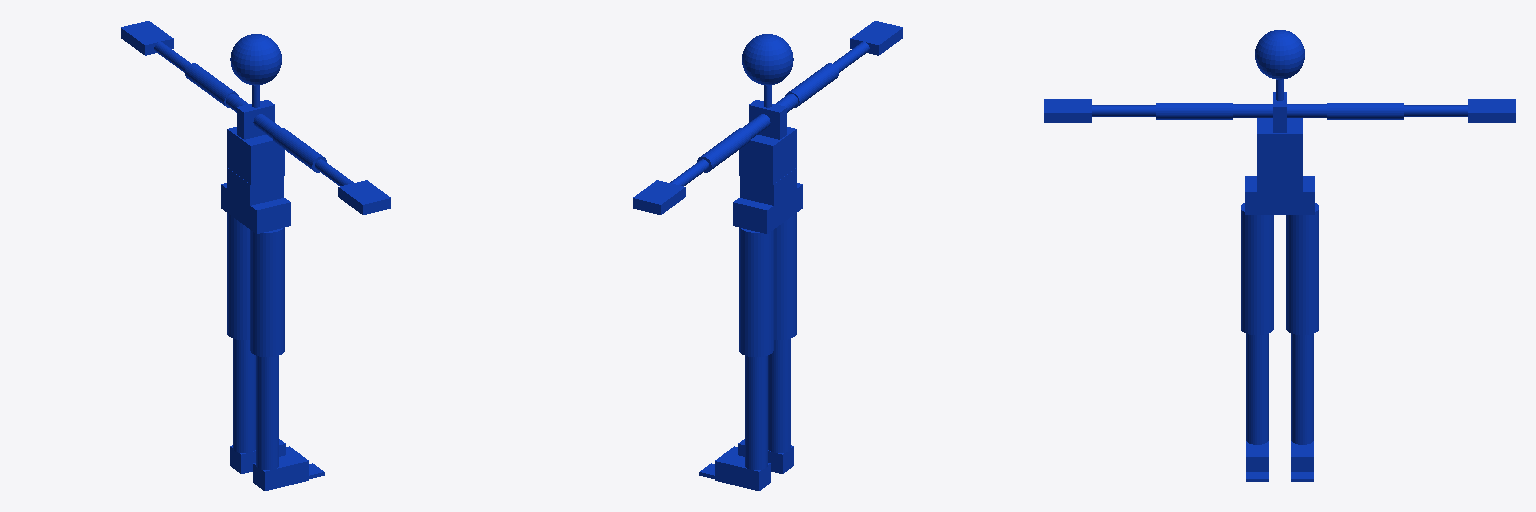
--- Facts derived from the render (not from the file) ---
The picture shows the robot from 3 angles, left to right: view 1: azimuth 30°, elevation 25°; view 2: azimuth 150°, elevation 25°; view 3: azimuth 270°, elevation 25°; orthographic projection.
Robot: XSensStyleModel_template — 67 links, 66 joints (66 revolute); root link Pelvis; default pose: every joint at zero.
Links seen in each view (by area): view 1: RightUpperLeg, LeftUpperLeg, RightLowerLeg, LeftLowerLeg, Head, Pelvis, RightFoot, T12, RightHand, L5, LeftHand, L3 (+4 smaller); view 2: LeftUpperLeg, RightUpperLeg, LeftLowerLeg, RightLowerLeg, Head, Pelvis, LeftFoot, T12, LeftHand, L5, RightHand, L3 (+4 smaller); view 3: RightUpperLeg, LeftUpperLeg, RightLowerLeg, LeftLowerLeg, Pelvis, Head, T12, RightUpperArm, LeftUpperArm, RightHand, LeftHand, L5 (+7 smaller).
Boxes of the visible links, left/top/right/bottom form: RightUpperLeg: left=250, top=228, right=284, bottom=356; LeftUpperLeg: left=227, top=213, right=249, bottom=339; RightLowerLeg: left=256, top=356, right=278, bottom=469; LeftLowerLeg: left=233, top=339, right=255, bottom=452; Head: left=230, top=34, right=281, bottom=85; Pelvis: left=221, top=183, right=290, bottom=233; RightFoot: left=253, top=452, right=308, bottom=490; T12: left=227, top=127, right=284, bottom=164; RightHand: left=338, top=180, right=390, bottom=214; L5: left=227, top=168, right=283, bottom=205; LeftHand: left=121, top=21, right=173, bottom=55; L3: left=227, top=148, right=284, bottom=184; LeftUpperLeg: left=739, top=228, right=773, bottom=356; RightUpperLeg: left=774, top=213, right=796, bottom=339; LeftLowerLeg: left=745, top=356, right=767, bottom=469; RightLowerLeg: left=768, top=339, right=790, bottom=452; Head: left=742, top=34, right=793, bottom=85; Pelvis: left=733, top=183, right=802, bottom=233; LeftFoot: left=715, top=452, right=770, bottom=490; T12: left=739, top=127, right=796, bottom=164; LeftHand: left=633, top=180, right=685, bottom=214; L5: left=740, top=168, right=796, bottom=205; RightHand: left=850, top=21, right=902, bottom=55; L3: left=739, top=148, right=796, bottom=184; RightUpperLeg: left=1241, top=203, right=1273, bottom=334; LeftUpperLeg: left=1286, top=203, right=1318, bottom=334; RightLowerLeg: left=1246, top=334, right=1268, bottom=444; LeftLowerLeg: left=1291, top=334, right=1313, bottom=444; Pelvis: left=1245, top=176, right=1314, bottom=214; Head: left=1255, top=30, right=1304, bottom=79; T12: left=1257, top=118, right=1302, bottom=152; RightUpperArm: left=1156, top=103, right=1232, bottom=119; LeftUpperArm: left=1327, top=103, right=1403, bottom=119; RightHand: left=1044, top=99, right=1091, bottom=122; LeftHand: left=1468, top=99, right=1515, bottom=122; L5: left=1257, top=172, right=1302, bottom=191.
Size in the robot's own frame: 0.294 by 1.68 by 1.69 metres.
Geometry: primitives only (box / cylinder / sphere), no mesh files.

The robot description file, URDF, robot "XSensStyleModel_template":
<!--URDF MODEL 66 DoFs-->

<robot name="XSensStyleModel_template">
	<!--To open this model with Gazebo replace the null masses, inertias and dimensions of the 'fake links f1 and f2'-->
	<!--LINKS-->
	<!--Link base (1)-->
	<link name="Pelvis">
		<inertial>
			<mass value="4.4"/>
			<!--COM origin wrt pHipOrigin-->
			<origin xyz="0           0    0.048424" rpy="0 0 0" />
			<inertia ixx="0.025751" iyy="0.0099332" izz="0.029571" ixy="0" ixz="0" iyz="0"/>
		</inertial>

		<visual>
			<!--box origin wrt pHipOrigin-->
			<origin xyz="0           0    0.048424" rpy="0 0 0" />
			<geometry>
				<box size="0.13695     0.24878    0.091304"/>
			</geometry>
			<material name="Cyan">
				<color rgba="0.1 0.3 0.8 0.4"/>
			</material>
		</visual>

		<collision>
			<!--box origin wrt pHipOrigin-->
			<origin xyz="0           0    0.048424" rpy="0 0 0" />
			<geometry>
				<box size="0.13695     0.24878    0.091304"/>
			</geometry>
			<material name="Cyan">
				<color rgba="0.1 0.3 0.8 0.4"/>
			</material>
		</collision>

	</link>
	<!--Chain from (2) to (7)-->
	<link name="L5_f1">
		<inertial>
			<mass value="0"/>
			<origin xyz="0 0 0" rpy="0 0 0" />
			<inertia ixx="0" iyy="0" izz="0" ixy="0" ixz="0" iyz="0"/>
		</inertial>
	</link>
	<link name="L5_f2">
		<inertial>
			<mass value="0"/>
			<origin xyz="0 0 0" rpy="0 0 0" />
			<inertia ixx="0" iyy="0" izz="0" ixy="0" ixz="0" iyz="0"/>
		</inertial>
	</link>
	<link name="L5">
		<inertial>
			<mass value="5.61"/>
			<!--COM origin wrt jL5S1-->
			<origin xyz="0           0    0.040831" rpy="0 0 0" />
			<inertia ixx="0.015357" iyy="0.011885" izz="0.021007" ixy="0" ixz="0" iyz="0"/>
		</inertial>

		<visual>
			<!--box origin origin wrt jL5S1-->
			<origin xyz="0           0    0.040831" rpy="0 0 0" />
			<geometry>
				<box size="0.13695      0.1618    0.081662"/>
			</geometry>
			<material name="Cyan">
				<color rgba="0.1 0.3 0.8 0.4"/>
			</material>
		</visual>

		<collision>
			<!--box origin origin wrt jL5S1-->
			<origin xyz="0           0    0.040831" rpy="0 0 0" />
			<geometry>
				<box size="0.13695      0.1618    0.081662"/>
			</geometry>
			<material name="Cyan">
				<color rgba="0.1 0.3 0.8 0.4"/>
			</material>
		</collision>
	</link>
	<link name="L3_f1">
		<inertial>
			<mass value="0"/>
			<origin xyz="0 0 0" rpy="0 0 0" />
			<inertia ixx="0" iyy="0" izz="0" ixy="0" ixz="0" iyz="0"/>
		</inertial>
	</link>
	<link name="L3_f2">
		<inertial>
			<mass value="0"/>
			<origin xyz="0 0 0" rpy="0 0 0" />
			<inertia ixx="0" iyy="0" izz="0" ixy="0" ixz="0" iyz="0"/>
		</inertial>
	</link>
	<link name="L3">
		<inertial>
			<mass value="5.61"/>
			<!--COM origin wrt jL4L3-->
			<origin xyz="0           0    0.036874" rpy="0 0 0" />
			<inertia ixx="0.014782" iyy="0.01131" izz="0.021007" ixy="0" ixz="0" iyz="0"/>
		</inertial>

		<visual>
			<!--box origin origin wrt jL4L3-->
			<origin xyz="0           0    0.036874" rpy="0 0 0" />
			<geometry>
				<box size="0.13695      0.1618    0.073749"/>
			</geometry>
			<material name="Cyan">
				<color rgba="0.1 0.3 0.8 0.4"/>
			</material>
		</visual>

		<collision>
			<!--box origin origin wrt jL4L3-->
			<origin xyz="0           0    0.036874" rpy="0 0 0" />
			<geometry>
				<box size="0.13695      0.1618    0.073749"/>
			</geometry>
			<material name="Cyan">
				<color rgba="0.1 0.3 0.8 0.4"/>
			</material>
		</collision>
	</link>
	<link name="T12_f1">
		<inertial>
			<mass value="0"/>
			<origin xyz="0 0 0" rpy="0 0 0" />
			<inertia ixx="0" iyy="0" izz="0" ixy="0" ixz="0" iyz="0"/>
		</inertial>
	</link>
	<link name="T12_f2">
		<inertial>
			<mass value="0"/>
			<origin xyz="0 0 0" rpy="0 0 0" />
			<inertia ixx="0" iyy="0" izz="0" ixy="0" ixz="0" iyz="0"/>
		</inertial>
	</link>
	<link name="T12">
		<inertial>
			<mass value="5.61"/>
			<!--COM origin wrt jL1T12-->
			<origin xyz="0           0    0.036874" rpy="0 0 0" />
			<inertia ixx="0.014782" iyy="0.01131" izz="0.021007" ixy="0" ixz="0" iyz="0"/>
		</inertial>

		<visual>
			<!--box origin origin wrt jL1T12-->
			<origin xyz="0           0    0.036874" rpy="0 0 0" />
			<geometry>
				<box size="0.13695      0.1618    0.073749"/>
			</geometry>
			<material name="Cyan">
				<color rgba="0.1 0.3 0.8 0.4"/>
			</material>
		</visual>

		<collision>
			<!--box origin origin wrt jL1T12-->
			<origin xyz="0           0    0.036874" rpy="0 0 0" />
			<geometry>
				<box size="0.13695      0.1618    0.073749"/>
			</geometry>
			<material name="Cyan">
				<color rgba="0.1 0.3 0.8 0.4"/>
			</material>
		</collision>
	</link>
	<link name="T8_f1">
		<inertial>
			<mass value="0"/>
			<origin xyz="0 0 0" rpy="0 0 0" />
			<inertia ixx="0" iyy="0" izz="0" ixy="0" ixz="0" iyz="0"/>
		</inertial>
	</link>
	<link name="T8_f2">
		<inertial>
			<mass value="0"/>
			<origin xyz="0 0 0" rpy="0 0 0" />
			<inertia ixx="0" iyy="0" izz="0" ixy="0" ixz="0" iyz="0"/>
		</inertial>
	</link>
	<link name="T8">
		<inertial>
			<mass value="2.2"/>
			<!--COM origin wrt jT9T8-->
			<origin xyz="0           0    0.052124" rpy="0 0 0" />
			<inertia ixx="0.0024867" iyy="0.0048766" izz="0.0033785" ixy="0" ixz="0" iyz="0"/>
		</inertial>

		<visual>
			<!--box origin wrt jT9T8-->
			<origin xyz="0           0    0.052124" rpy="0 0 0" />
			<geometry>
				<box size="0.12543    0.051924     0.10425"/>
			</geometry>
			<material name="Cyan">
				<color rgba="0.1 0.3 0.8 0.4"/>
			</material>
		</visual>

		<collision>
			<!--box origin wrt jT9T8-->
			<origin xyz="0           0    0.052124" rpy="0 0 0" />
			<geometry>
				<box size="0.12543    0.051924     0.10425"/>
			</geometry>
			<material name="Cyan">
				<color rgba="0.1 0.3 0.8 0.4"/>
			</material>
		</collision>

	</link>
	<link name="Neck_f1">
		<inertial>
			<mass value="0"/>
			<origin xyz="0 0 0" rpy="0 0 0" />
			<inertia ixx="0" iyy="0" izz="0" ixy="0" ixz="0" iyz="0"/>
		</inertial>
	</link>
	<link name="Neck_f2">
		<inertial>
			<mass value="0"/>
			<origin xyz="0 0 0" rpy="0 0 0" />
			<inertia ixx="0" iyy="0" izz="0" ixy="0" ixz="0" iyz="0"/>
		</inertial>
	</link>
	<link name="Neck">
		<inertial>
			<mass value="0.66"/>
			<!--COM origin wrt jT1C7-->
			<origin xyz="0           0    0.043706" rpy="0 0 0" />
			<inertia ixx="0.00055144" iyy="0.00055144" izz="0.00026239" ixy="0" ixz="0" iyz="0"/>
		</inertial>

		<visual>
			<!--box origin wrt jT1C7-->
			<origin xyz="0           0    0.043706" rpy="0 0 0" />
			<geometry>
				<cylinder length="0.087412" radius="0.014099"/>
			</geometry>
			<material name="Cyan">
				<color rgba="0.1 0.3 0.8 0.4"/>
			</material>
		</visual>

		<collision>
			<!--box origin wrt jT1C7-->
			<origin xyz="0           0    0.043706" rpy="0 0 0" />
			<geometry>
				<cylinder length="0.087412" radius="0.014099"/>
			</geometry>
			<material name="Cyan">
				<color rgba="0.1 0.3 0.8 0.4"/>
			</material>
		</collision>
	</link>
	<link name="Head_f1">
		<inertial>
			<mass value="0"/>
			<origin xyz="0 0 0" rpy="0 0 0" />
			<inertia ixx="0" iyy="0" izz="0" ixy="0" ixz="0" iyz="0"/>
		</inertial>
	</link>
	<link name="Head_f2">
		<inertial>
			<mass value="0"/>
			<origin xyz="0 0 0" rpy="0 0 0" />
			<inertia ixx="0" iyy="0" izz="0" ixy="0" ixz="0" iyz="0"/>
		</inertial>
	</link>
	<link name="Head">
		<inertial>
			<mass value="1.98"/>
			<!--COM origin wrt jC1Head-->
			<origin xyz="0           0    0.089927" rpy="0 0 0" />
			<inertia ixx="0.0064049" iyy="0.0064049" izz="0.0064049" ixy="0" ixz="0" iyz="0"/>
		</inertial>

		<visual>
			<!--boc origin wrt jC1Head-->
			<origin xyz="0           0    0.089927" rpy="0 0 0" />
			<geometry>
				<sphere radius="0.089927"/>
			</geometry>
			<material name="Cyan">
				<color rgba="0.1 0.3 0.8 0.4"/>
			</material>
		</visual>

		<collision>
			<!--box origin wrt jC1Head-->
			<origin xyz="0           0    0.089927" rpy="0 0 0" />
			<geometry>
				<sphere radius="0.089927"/>
			</geometry>
			<material name="Cyan">
				<color rgba="0.1 0.3 0.8 0.4"/>
			</material>
		</collision>

	</link>
	<!--Chain from (8) to (11)-->
	<link name="RightShoulder_f1">
		<inertial>
			<mass value="0"/>
			<origin xyz="0 0 0" rpy="0 0 0" />
			<inertia ixx="0" iyy="0" izz="0" ixy="0" ixz="0" iyz="0"/>
		</inertial>
	</link>
	<link name="RightShoulder_f2">
		<inertial>
			<mass value="0"/>
			<origin xyz="0 0 0" rpy="0 0 0" />
			<inertia ixx="0" iyy="0" izz="0" ixy="0" ixz="0" iyz="0"/>
		</inertial>
	</link>
	<link name="RightShoulder">
		<inertial>
			<mass value="1.705"/>
			<!--COM origin wrt jRightC7Shoulder-->
			<origin xyz="0   -0.070455           0" rpy="0 0 0" />
			<inertia ixx="0.0030911" iyy="0.00053983" izz="0.0030911" ixy="0" ixz="0" iyz="0"/>
		</inertial>

		<visual>
			<!--box origin wrt jRightC7Shoulder. RPY rotated of pi/2.-->
			<origin xyz="0   -0.070455           0" rpy="1.5708 0 0" />
			<geometry>
				<cylinder length="0.14091" radius="0.025164"/>
			</geometry>
			<material name="Cyan">
				<color rgba="0.1 0.3 0.8 0.4"/>
			</material>
		</visual>

		<collision>
			<!--box origin wrt jRightC7Shoulder. RPY rotated of pi/2.-->
			<origin xyz="0   -0.070455           0" rpy="1.5708 0 0" />
			<geometry>
				<cylinder length="0.14091" radius="0.025164"/>
			</geometry>
			<material name="Cyan">
				<color rgba="0.1 0.3 0.8 0.4"/>
			</material>
		</collision>

	</link>
	<link name="RightUpperArm_f1">
		<inertial>
			<mass value="0"/>
			<origin xyz="0 0 0" rpy="0 0 0" />
			<inertia ixx="0" iyy="0" izz="0" ixy="0" ixz="0" iyz="0"/>
		</inertial>
	</link>
	<link name="RightUpperArm_f2">
		<inertial>
			<mass value="0"/>
			<origin xyz="0 0 0" rpy="0 0 0" />
			<inertia ixx="0" iyy="0" izz="0" ixy="0" ixz="0" iyz="0"/>
		</inertial>
	</link>
	<link name="RightUpperArm">
		<inertial>
			<mass value="1.65"/>
			<!--COM origin wrt jRightShoulder-->
			<origin xyz="0    -0.13806           0" rpy="0 0 0" />
			<inertia ixx="0.010857" iyy="0.00074763" izz="0.010857" ixy="0" ixz="0" iyz="0"/>
		</inertial>

		<visual>
			<!--box origin wrt jRightShoulder. RPY rotated of pi/2.-->
			<origin xyz="0    -0.13806           0" rpy="1.5708 0 0" />
			<geometry>
				<cylinder length="0.27611" radius="0.030104"/>
			</geometry>
			<material name="Cyan">
				<color rgba="0.1 0.3 0.8 0.4"/>
			</material>
		</visual>

		<collision>
			<!--box origin wrt jRightShoulder. RPY rotated of pi/2.-->
			<origin xyz="0    -0.13806           0" rpy="1.5708 0 0" />
			<geometry>
				<cylinder length="0.27611" radius="0.030104"/>
			</geometry>
			<material name="Cyan">
				<color rgba="0.1 0.3 0.8 0.4"/>
			</material>
		</collision>

	</link>
	<link name="RightForeArm_f1">
		<inertial>
			<mass value="0"/>
			<origin xyz="0 0 0" rpy="0 0 0" />
			<inertia ixx="0" iyy="0" izz="0" ixy="0" ixz="0" iyz="0"/>
		</inertial>
	</link>
	<link name="RightForeArm_f2">
		<inertial>
			<mass value="0"/>
			<origin xyz="0 0 0" rpy="0 0 0" />
			<inertia ixx="0" iyy="0" izz="0" ixy="0" ixz="0" iyz="0"/>
		</inertial>
	</link>
	<link name="RightForeArm">
		<inertial>
			<mass value="1.1"/>
			<!--COM origin wrt jRightElbow-->
			<origin xyz="0    -0.11372           0" rpy="0 0 0" />
			<inertia ixx="0.0048522" iyy="0.00022152" izz="0.0048522" ixy="0" ixz="0" iyz="0"/>
		</inertial>

		<visual>
			<!--box origin wrt jRightElbow. RPY rotated of pi/2.-->
			<origin xyz="0    -0.11372           0" rpy="1.5708 0 0" />
			<geometry>
				<cylinder length="0.22743" radius="0.020069"/>
			</geometry>
			<material name="Cyan">
				<color rgba="0.1 0.3 0.8 0.4"/>
			</material>
		</visual>

		<collision>
			<!--box origin wrt jRightElbow. RPY rotated of pi/2.-->
			<origin xyz="0    -0.11372           0" rpy="1.5708 0 0" />
			<geometry>
				<cylinder length="0.22743" radius="0.020069"/>
			</geometry>
			<material name="Cyan">
				<color rgba="0.1 0.3 0.8 0.4"/>
			</material>
		</collision>

	</link>
	<link name="RightHand_f1">
		<inertial>
			<mass value="0"/>
			<origin xyz="0 0 0" rpy="0 0 0" />
			<inertia ixx="0" iyy="0" izz="0" ixy="0" ixz="0" iyz="0"/>
		</inertial>
	</link>
	<link name="RightHand_f2">
		<inertial>
			<mass value="0"/>
			<origin xyz="0 0 0" rpy="0 0 0" />
			<inertia ixx="0" iyy="0" izz="0" ixy="0" ixz="0" iyz="0"/>
		</inertial>
	</link>
	<link name="RightHand">
		<inertial>
			<mass value="0.99"/>
			<!--COM origin wrt jRightWrist-->
			<origin xyz="0   -0.085441           0" rpy="0 0 0" />
			<inertia ixx="0.002542" iyy="0.0012036" izz="0.0034797" ixy="0" ixz="0" iyz="0"/>
		</inertial>

		<visual>
			<!--box origin wrt jRightWrist-->
			<origin xyz="0   -0.085441           0" rpy="0 0 0" />
			<geometry>
				<box size="0.11392     0.17088    0.040138"/>
			</geometry>
			<material name="Cyan">
				<color rgba="0.1 0.3 0.8 0.4"/>
			</material>
		</visual>

		<collision>
			<!--box origin wrt jRightWrist-->
			<origin xyz="0   -0.085441           0" rpy="0 0 0" />
			<geometry>
				<box size="0.11392     0.17088    0.040138"/>
			</geometry>
			<material name="Cyan">
				<color rgba="0.1 0.3 0.8 0.4"/>
			</material>
		</collision>

	</link>
	<!--Chain from (12) to (15)-->
	<link name="LeftShoulder_f1">
		<inertial>
			<mass value="0"/>
			<origin xyz="0 0 0" rpy="0 0 0" />
			<inertia ixx="0" iyy="0" izz="0" ixy="0" ixz="0" iyz="0"/>
		</inertial>
	</link>
	<link name="LeftShoulder_f2">
		<inertial>
			<mass value="0"/>
			<origin xyz="0 0 0" rpy="0 0 0" />
			<inertia ixx="0" iyy="0" izz="0" ixy="0" ixz="0" iyz="0"/>
		</inertial>
	</link>
	<link name="LeftShoulder">
		<inertial>
			<mass value="1.705"/>
			<!--COM origin wrt jLeftC7Shoulder-->
			<origin xyz="0    0.070455           0" rpy="0 0 0" />
			<inertia ixx="0.0030911" iyy="0.00053983" izz="0.0030911" ixy="0" ixz="0" iyz="0"/>
		</inertial>

		<visual>
			<!--box origin wrt jLeftC7Shoulder. RPY rotated of pi/2.-->
			<origin xyz="0    0.070455           0" rpy="1.5708 0 0" />
			<geometry>
				<cylinder length="0.14091" radius="0.025164"/>
			</geometry>
			<material name="Cyan">
				<color rgba="0.1 0.3 0.8 0.4"/>
			</material>
		</visual>

		<collision>
			<!--box origin wrt jLeftC7Shoulder. RPY rotated of pi/2.-->
			<origin xyz="0    0.070455           0" rpy="1.5708 0 0" />
			<geometry>
				<cylinder length="0.14091" radius="0.025164"/>
			</geometry>
			<material name="Cyan">
				<color rgba="0.1 0.3 0.8 0.4"/>
			</material>
		</collision>

	</link>
	<link name="LeftUpperArm_f1">
		<inertial>
			<mass value="0"/>
			<origin xyz="0 0 0" rpy="0 0 0" />
			<inertia ixx="0" iyy="0" izz="0" ixy="0" ixz="0" iyz="0"/>
		</inertial>
	</link>
	<link name="LeftUpperArm_f2">
		<inertial>
			<mass value="0"/>
			<origin xyz="0 0 0" rpy="0 0 0" />
			<inertia ixx="0" iyy="0" izz="0" ixy="0" ixz="0" iyz="0"/>
		</inertial>
	</link>
	<link name="LeftUpperArm">
		<inertial>
			<mass value="1.65"/>
			<!--COM origin wrt jLeftShoulder-->
			<origin xyz="0     0.13806           0" rpy="0 0 0" />
			<inertia ixx="0.010857" iyy="0.00074763" izz="0.010857" ixy="0" ixz="0" iyz="0"/>
		</inertial>

		<visual>
			<!--box origin wrt jLeftShoulder. RPY rotated of pi/2.-->
			<origin xyz="0     0.13806           0" rpy="1.5708 0 0" />
			<geometry>
				<cylinder length="0.27611" radius="0.030104"/>
			</geometry>
			<material name="Cyan">
				<color rgba="0.1 0.3 0.8 0.4"/>
			</material>
		</visual>

		<collision>
			<!--box origin wrt jLeftShoulder. RPY rotated of pi/2.-->
			<origin xyz="0     0.13806           0" rpy="1.5708 0 0" />
			<geometry>
				<cylinder length="0.27611" radius="0.030104"/>
			</geometry>
			<material name="Cyan">
				<color rgba="0.1 0.3 0.8 0.4"/>
			</material>
		</collision>

	</link>
	<link name="LeftForeArm_f1">
		<inertial>
			<mass value="0"/>
			<origin xyz="0 0 0" rpy="0 0 0" />
			<inertia ixx="0" iyy="0" izz="0" ixy="0" ixz="0" iyz="0"/>
		</inertial>
	</link>
	<link name="LeftForeArm_f2">
		<inertial>
			<mass value="0"/>
			<origin xyz="0 0 0" rpy="0 0 0" />
			<inertia ixx="0" iyy="0" izz="0" ixy="0" ixz="0" iyz="0"/>
		</inertial>
	</link>
	<link name="LeftForeArm">
		<inertial>
			<mass value="1.1"/>
			<!--COM origin wrt jLeftElbow-->
			<origin xyz="0     0.11372           0" rpy="0 0 0" />
			<inertia ixx="0.0048522" iyy="0.00022152" izz="0.0048522" ixy="0" ixz="0" iyz="0"/>
		</inertial>

		<visual>
			<!--box origin wrt jLeftElbow. RPY rotated of pi/2.-->
			<origin xyz="0     0.11372           0" rpy="1.5708 0 0" />
			<geometry>
				<cylinder length="0.22743" radius="0.020069"/>
			</geometry>
			<material name="Cyan">
				<color rgba="0.1 0.3 0.8 0.4"/>
			</material>
		</visual>

		<collision>
			<!--box origin wrt jLeftElbow. RPY rotated of pi/2.-->
			<origin xyz="0     0.11372           0" rpy="1.5708 0 0" />
			<geometry>
				<cylinder length="0.22743" radius="0.020069"/>
			</geometry>
			<material name="Cyan">
				<color rgba="0.1 0.3 0.8 0.4"/>
			</material>
		</collision>

	</link>
	<link name="LeftHand_f1">
		<inertial>
			<mass value="0"/>
			<origin xyz="0 0 0" rpy="0 0 0" />
			<inertia ixx="0" iyy="0" izz="0" ixy="0" ixz="0" iyz="0"/>
		</inertial>
	</link>
	<link name="LeftHand_f2">
		<inertial>
			<mass value="0"/>
			<origin xyz="0 0 0" rpy="0 0 0" />
			<inertia ixx="0" iyy="0" izz="0" ixy="0" ixz="0" iyz="0"/>
		</inertial>
	</link>
	<link name="LeftHand">
		<inertial>
			<mass value="0.33"/>
			<!--COM origin wrt jLeftWrist-->
			<origin xyz="0    0.085441           0" rpy="0 0 0" />
			<inertia ixx="0.00084732" iyy="0.0004012" izz="0.0011599" ixy="0" ixz="0" iyz="0"/>
		</inertial>

		<visual>
			<!--COM origin wrt jLeftWrist-->
			<origin xyz="0    0.085441           0" rpy="0 0 0" />
			<geometry>
				<box size="0.11392     0.17088    0.040138"/>
			</geometry>
			<material name="Cyan">
				<color rgba="0.1 0.3 0.8 0.4"/>
			</material>
		</visual>

		<collision>
			<!--COM origin wrt jLeftWrist-->
			<origin xyz="0    0.085441           0" rpy="0 0 0" />
			<geometry>
				<box size="0.11392     0.17088    0.040138"/>
			</geometry>
			<material name="Cyan">
				<color rgba="0.1 0.3 0.8 0.4"/>
			</material>
		</collision>

	</link>
	<!--Chain from (16) to (19)-->
	<link name="RightUpperLeg_f1">
		<inertial>
			<mass value="0"/>
			<origin xyz="0 0 0" rpy="0 0 0" />
			<inertia ixx="0" iyy="0" izz="0" ixy="0" ixz="0" iyz="0"/>
		</inertial>
	</link>
	<link name="RightUpperLeg_f2">
		<inertial>
			<mass value="0"/>
			<origin xyz="0 0 0" rpy="0 0 0" />
			<inertia ixx="0" iyy="0" izz="0" ixy="0" ixz="0" iyz="0"/>
		</inertial>
	</link>
	<link name="RightUpperLeg">
		<inertial>
			<mass value="6.875"/>
			<!--COM origin wrt jRightHip-->
			<origin xyz="0           0    -0.23835" rpy="0 0 0" />
			<inertia ixx="0.1364" iyy="0.1364" izz="0.012416" ixy="0" ixz="0" iyz="0"/>
		</inertial>

		<visual>
			<!--box origin wrt jRightHip-->
			<origin xyz="0           0    -0.23835" rpy="0 0 0" />
			<geometry>
				<cylinder length="0.4767" radius="0.060101"/>
			</geometry>
			<material name="Cyan">
				<color rgba="0.1 0.3 0.8 0.4"/>
			</material>
		</visual>

		<collision>
			<!--box origin wrt jRightHip-->
			<origin xyz="0           0    -0.23835" rpy="0 0 0" />
			<geometry>
				<cylinder length="0.4767" radius="0.060101"/>
			</geometry>
			<material name="Cyan">
				<color rgba="0.1 0.3 0.8 0.4"/>
			</material>
		</collision>

	</link>
	<link name="RightLowerLeg_f1">
		<inertial>
			<mass value="0"/>
			<origin xyz="0 0 0" rpy="0 0 0" />
			<inertia ixx="0" iyy="0" izz="0" ixy="0" ixz="0" iyz="0"/>
		</inertial>
	</link>
	<link name="RightLowerLeg_f2">
		<inertial>
			<mass value="0"/>
			<origin xyz="0 0 0" rpy="0 0 0" />
			<inertia ixx="0" iyy="0" izz="0" ixy="0" ixz="0" iyz="0"/>
		</inertial>
	</link>
	<link name="RightLowerLeg">
		<inertial>
			<mass value="2.0075"/>
			<!--COM origin wrt jRightKnee-->
			<origin xyz="0           0    -0.22044" rpy="0 0 0" />
			<inertia ixx="0.033337" iyy="0.033337" izz="0.0016411" ixy="0" ixz="0" iyz="0"/>
		</inertial>

		<visual>
			<!--box origin wrt jRightKnee-->
			<origin xyz="0           0    -0.22044" rpy="0 0 0" />
			<geometry>
				<cylinder length="0.44087" radius="0.040434"/>
			</geometry>
			<material name="Cyan">
				<color rgba="0.1 0.3 0.8 0.4"/>
			</material>
		</visual>

		<collision>
			<!--box origin wrt jRightKnee-->
			<origin xyz="0           0    -0.22044" rpy="0 0 0" />
			<geometry>
				<cylinder length="0.44087" radius="0.040434"/>
			</geometry>
			<material name="Cyan">
				<color rgba="0.1 0.3 0.8 0.4"/>
			</material>
		</collision>

	</link>
	<link name="RightFoot_f1">
		<inertial>
			<mass value="0"/>
			<origin xyz="0 0 0" rpy="0 0 0" />
			<inertia ixx="0" iyy="0" izz="0" ixy="0" ixz="0" iyz="0"/>
		</inertial>
	</link>
	<link name="RightFoot_f2">
		<inertial>
			<mass value="0"/>
			<origin xyz="0 0 0" rpy="0 0 0" />
			<inertia ixx="0" iyy="0" izz="0" ixy="0" ixz="0" iyz="0"/>
		</inertial>
	</link>
	<link name="RightFoot">
		<inertial>
			<mass value="0.715"/>
			<!--COM origin wrt jRightAnkle-->
			<origin xyz="0.054236           0   -0.037868" rpy="0 0 0" />
			<inertia ixx="0.00073144" iyy="0.0022406" izz="0.0022885" ixy="0" ixz="0" iyz="0"/>
		</inertial>

		<visual>
			<!--box origin wrt jRightAnkle-->
			<origin xyz="0.054236           0   -0.037868" rpy="0 0 0" />
			<geometry>
				<box size="0.17852    0.080869    0.075737"/>
			</geometry>
			<material name="Cyan">
				<color rgba="0.1 0.3 0.8 0.4"/>
			</material>
		</visual>

		<collision>
			<!--box origin wrt jRightAnkle-->
			<origin xyz="0.054236           0   -0.037868" rpy="0 0 0" />
			<geometry>
				<box size="0.17852    0.080869    0.075737"/>
			</geometry>
			<material name="Cyan">
				<color rgba="0.1 0.3 0.8 0.4"/>
			</material>
		</collision>

	</link>
	<link name="RightToe_f1">
		<inertial>
			<mass value="0"/>
			<origin xyz="0 0 0" rpy="0 0 0" />
			<inertia ixx="0" iyy="0" izz="0" ixy="0" ixz="0" iyz="0"/>
		</inertial>
	</link>
	<link name="RightToe_f2">
		<inertial>
			<mass value="0"/>
			<origin xyz="0 0 0" rpy="0 0 0" />
			<inertia ixx="0" iyy="0" izz="0" ixy="0" ixz="0" iyz="0"/>
		</inertial>
	</link>
	<link name="RightToe">
		<inertial>
			<mass value="0.0825"/>
			<!--COM origin wrt jRightBallFoot-->
			<origin xyz="0.030741           0           0" rpy="0 0 0" />
			<inertia ixx="4.6403e-05" iyy="2.7429e-05" izz="7.0948e-05" ixy="0" ixz="0" iyz="0"/>
		</inertial>

		<visual>
			<!--box origin wrt jRightBallFoot-->
			<origin xyz="0.030741           0           0" rpy="0 0 0" />
			<geometry>
				<box size="0.061481    0.080869    0.014482"/>
			</geometry>
			<material name="Cyan">
				<color rgba="0.1 0.3 0.8 0.4"/>
			</material>
		</visual>

		<collision>
			<!--box origin wrt jRightBallFoot-->
			<origin xyz="0.030741           0           0" rpy="0 0 0" />
			<geometry>
				<box size="0.061481    0.080869    0.014482"/>
			</geometry>
			<material name="Cyan">
				<color rgba="0.1 0.3 0.8 0.4"/>
			</material>
		</collision>
	</link>
	<!--Chain from (20) to (23)-->
	<link name="LeftUpperLeg_f1">
		<inertial>
			<mass value="0"/>
			<origin xyz="0 0 0" rpy="0 0 0" />
			<inertia ixx="0" iyy="0" izz="0" ixy="0" ixz="0" iyz="0"/>
		</inertial>
	</link>
	<link name="LeftUpperLeg_f2">
		<inertial>
			<mass value="0"/>
			<origin xyz="0 0 0" rpy="0 0 0" />
			<inertia ixx="0" iyy="0" izz="0" ixy="0" ixz="0" iyz="0"/>
		</inertial>
	</link>
	<link name="LeftUpperLeg">
		<inertial>
			<mass value="6.875"/>
			<!--COM origin wrt jLeftHip-->
			<origin xyz="0           0    -0.23835" rpy="0 0 0" />
			<inertia ixx="0.1364" iyy="0.1364" izz="0.012416" ixy="0" ixz="0" iyz="0"/>
		</inertial>

		<visual>
			<!--box origin wrt jLeftHip-->
			<origin xyz="0           0    -0.23835" rpy="0 0 0" />
			<geometry>
				<cylinder length="0.4767" radius="-0.060101"/>
			</geometry>
			<material name="Cyan">
				<color rgba="0.1 0.3 0.8 0.4"/>
			</material>
		</visual>

		<collision>
			<!--box origin wrt jLeftHip-->
			<origin xyz="0           0    -0.23835" rpy="0 0 0" />
			<geometry>
				<cylinder length="0.4767" radius="-0.060101"/>
			</geometry>
			<material name="Cyan">
				<color rgba="0.1 0.3 0.8 0.4"/>
			</material>
		</collision>

	</link>
	<link name="LeftLowerLeg_f1">
		<inertial>
			<mass value="0"/>
			<origin xyz="0 0 0" rpy="0 0 0" />
			<inertia ixx="0" iyy="0" izz="0" ixy="0" ixz="0" iyz="0"/>
		</inertial>
	</link>
	<link name="LeftLowerLeg_f2">
		<inertial>
			<mass value="0"/>
			<origin xyz="0 0 0" rpy="0 0 0" />
			<inertia ixx="0" iyy="0" izz="0" ixy="0" ixz="0" iyz="0"/>
		</inertial>
	</link>
	<link name="LeftLowerLeg">
		<inertial>
			<mass value="2.0075"/>
			<!--COM origin wrt jLeftKnee-->
			<origin xyz="0           0    -0.22044" rpy="0 0 0" />
			<inertia ixx="0.033337" iyy="0.033337" izz="0.0016411" ixy="0" ixz="0" iyz="0"/>
		</inertial>

		<visual>
			<!--box origin wrt jLeftKnee-->
			<origin xyz="0           0    -0.22044" rpy="0 0 0" />
			<geometry>
				<cylinder length="0.44087" radius="0.040434"/>
			</geometry>
			<material name="Cyan">
				<color rgba="0.1 0.3 0.8 0.4"/>
			</material>
		</visual>

		<collision>
			<!--box origin wrt jLeftKnee-->
			<origin xyz="0           0    -0.22044" rpy="0 0 0" />
			<geometry>
				<cylinder length="0.44087" radius="0.040434"/>
			</geometry>
			<material name="Cyan">
				<color rgba="0.1 0.3 0.8 0.4"/>
			</material>
		</collision>

	</link>
	<link name="LeftFoot_f1">
		<inertial>
			<mass value="0"/>
			<origin xyz="0 0 0" rpy="0 0 0" />
			<inertia ixx="0" iyy="0" izz="0" ixy="0" ixz="0" iyz="0"/>
		</inertial>
	</link>
	<link name="LeftFoot_f2">
		<inertial>
			<mass value="0"/>
			<origin xyz="0 0 0" rpy="0 0 0" />
			<inertia ixx="0" iyy="0" izz="0" ixy="0" ixz="0" iyz="0"/>
		</inertial>
	</link>
	<link name="LeftFoot">
		<inertial>
			<mass value="0.715"/>
			<!--COM origin wrt jLeftAnkle-->
			<origin xyz="0.054236           0   -0.037868" rpy="0 0 0" />
			<inertia ixx="0.00073144" iyy="0.0022406" izz="0.0022885" ixy="0" ixz="0" iyz="0"/>
		</inertial>

		<visual>
			<!--box origin wrt jLeftAnkle-->
			<origin xyz="0.054236           0   -0.037868" rpy="0 0 0" />
			<geometry>
				<box size="0.17852    0.080869    0.075737"/>
			</geometry>
			<material name="Cyan">
				<color rgba="0.1 0.3 0.8 0.4"/>
			</material>
		</visual>

		<collision>
			<!--box origin wrt jLeftAnkle-->
			<origin xyz="0.054236           0   -0.037868" rpy="0 0 0" />
			<geometry>
				<box size="0.17852    0.080869    0.075737"/>
			</geometry>
			<material name="Cyan">
				<color rgba="0.1 0.3 0.8 0.4"/>
			</material>
		</collision>

	</link>
	<link name="LeftToe_f1">
		<inertial>
			<mass value="0"/>
			<origin xyz="0 0 0" rpy="0 0 0" />
			<inertia ixx="0" iyy="0" izz="0" ixy="0" ixz="0" iyz="0"/>
		</inertial>
	</link>
	<link name="LeftToe_f2">
		<inertial>
			<mass value="0"/>
			<origin xyz="0 0 0" rpy="0 0 0" />
			<inertia ixx="0" iyy="0" izz="0" ixy="0" ixz="0" iyz="0"/>
		</inertial>
	</link>
	<link name="LeftToe">
		<inertial>
			<mass value="0.0825"/>
			<!--COM origin wrt jLeftBallFoot-->
			<origin xyz="0.030741           0           0" rpy="0 0 0" />
			<inertia ixx="4.6403e-05" iyy="2.7429e-05" izz="7.0948e-05" ixy="0" ixz="0" iyz="0"/>
		</inertial>

		<visual>
			<!--box origin wrt jLeftBallFoot-->
			<origin xyz="0.030741           0           0" rpy="0 0 0" />
			<geometry>
				<box size="0.061481    0.080869    0.014482"/>
			</geometry>
			<material name="Cyan">
				<color rgba="0.1 0.3 0.8 0.4"/>
			</material>
		</visual>

		<collision>
			<!--box origin wrt jLeftBallFoot-->
			<origin xyz="0.030741           0           0" rpy="0 0 0" />
			<geometry>
				<box size="0.061481    0.080869    0.014482"/>
			</geometry>
			<material name="Cyan">
				<color rgba="0.1 0.3 0.8 0.4"/>
			</material>
		</collision>
	</link>


	<!--JOINTS-->
	<!--Chain from (2) to (7)-->
	<joint name="jL5S1_rotx" type="revolute">
		<origin xyz="-0.000566           0    0.094076" rpy="0 0 0"/>
		<parent link="Pelvis"/>
		<child link="L5_f1"/>
		<dynamics damping="0.1" friction="0.0"/>
		<limit effort="30" velocity="1.0" lower="-10.0" upper="10.0" />
		<axis xyz="1 0 0" />
	</joint>
	<joint name="jL5S1_roty" type="revolute">
		<origin xyz="0 0 0" rpy="0 0 0"/>
		<parent link="L5_f1"/>
		<child link="L5_f2"/>
		<dynamics damping="0.1" friction="0.0"/>
		<limit effort="30" velocity="1.0" lower="-10.0" upper="10.0" />
		<axis xyz="0 1 0" />
	</joint>
	<joint name="jL5S1_rotz" type="revolute">
		<origin xyz="0 0 0" rpy="0 0 0"/>
		<parent link="L5_f2"/>
		<child link="L5"/>
		<dynamics damping="0.1" friction="0.0"/>
		<limit effort="30" velocity="1.0" lower="-10.0" upper="10.0" />
		<axis xyz="0 0 1" />
	</joint>
	<joint name="jL4L3_rotx" type="revolute">
		<origin xyz="0.001028           0    0.081662" rpy="0 0 0"/>
		<parent link="L5"/>
		<child link="L3_f1"/>
		<dynamics damping="0.1" friction="0.0"/>
		<limit effort="30" velocity="1.0" lower="-10.0" upper="10.0" />
		<axis xyz="1 0 0" />
	</joint>
	<joint name="jL4L3_roty" type="revolute">
		<origin xyz="0 0 0" rpy="0 0 0"/>
		<parent link="L3_f1"/>
		<child link="L3_f2"/>
		<dynamics damping="0.1" friction="0.0"/>
		<limit effort="30" velocity="1.0" lower="-10.0" upper="10.0" />
		<axis xyz="0 1 0" />
	</joint>
	<joint name="jL4L3_rotz" type="revolute">
		<origin xyz="0 0 0" rpy="0 0 0"/>
		<parent link="L3_f2"/>
		<child link="L3"/>
		<dynamics damping="0.1" friction="0.0"/>
		<limit effort="30" velocity="1.0" lower="-10.0" upper="10.0" />
		<axis xyz="0 0 1" />
	</joint>
	<joint name="jL1T12_rotx" type="revolute">
		<origin xyz="0           0    0.073749" rpy="0 0 0"/>
		<parent link="L3"/>
		<child link="T12_f1"/>
		<dynamics damping="0.1" friction="0.0"/>
		<limit effort="30" velocity="1.0" lower="-10.0" upper="10.0" />
		<axis xyz="1 0 0" />
	</joint>
	<joint name="jL1T12_roty" type="revolute">
		<origin xyz="0 0 0" rpy="0 0 0"/>
		<parent link="T12_f1"/>
		<child link="T12_f2"/>
		<dynamics damping="0.1" friction="0.0"/>
		<limit effort="30" velocity="1.0" lower="-10.0" upper="10.0" />
		<axis xyz="0 1 0" />
	</joint>
	<joint name="jL1T12_rotz" type="revolute">
		<origin xyz="0 0 0" rpy="0 0 0"/>
		<parent link="T12_f2"/>
		<child link="T12"/>
		<dynamics damping="0.1" friction="0.0"/>
		<limit effort="30" velocity="1.0" lower="-10.0" upper="10.0" />
		<axis xyz="0 0 1" />
	</joint>
	<joint name="jT9T8_rotx" type="revolute">
		<origin xyz="0           0    0.073749" rpy="0 0 0"/>
		<parent link="T12"/>
		<child link="T8_f1"/>
		<dynamics damping="0.1" friction="0.0"/>
		<limit effort="30" velocity="1.0" lower="-10.0" upper="10.0" />
		<axis xyz="1 0 0" />
	</joint>
	<joint name="jT9T8_roty" type="revolute">
		<origin xyz="0 0 0" rpy="0 0 0"/>
		<parent link="T8_f1"/>
		<child link="T8_f2"/>
		<dynamics damping="0.1" friction="0.0"/>
		<limit effort="30" velocity="1.0" lower="-10.0" upper="10.0" />
		<axis xyz="0 1 0" />
	</joint>
	<joint name="jT9T8_rotz" type="revolute">
		<origin xyz="0 0 0" rpy="0 0 0"/>
		<parent link="T8_f2"/>
		<child link="T8"/>
		<dynamics damping="0.1" friction="0.0"/>
		<limit effort="30" velocity="1.0" lower="-10.0" upper="10.0" />
		<axis xyz="0 0 1" />
	</joint>
	<joint name="jT1C7_rotx" type="revolute">
		<origin xyz="0           0     0.10425" rpy="0 0 0"/>
		<parent link="T8"/>
		<child link="Neck_f1"/>
		<dynamics damping="0.1" friction="0.0"/>
		<limit effort="30" velocity="1.0" lower="-10.0" upper="10.0" />
		<axis xyz="1 0 0" />
	</joint>
	<joint name="jT1C7_roty" type="revolute">
		<origin xyz="0 0 0" rpy="0 0 0"/>
		<parent link="Neck_f1"/>
		<child link="Neck_f2"/>
		<dynamics damping="0.1" friction="0.0"/>
		<limit effort="30" velocity="1.0" lower="-10.0" upper="10.0" />
		<axis xyz="0 1 0" />
	</joint>
	<joint name="jT1C7_rotz" type="revolute">
		<origin xyz="0 0 0" rpy="0 0 0"/>
		<parent link="Neck_f2"/>
		<child link="Neck"/>
		<dynamics damping="0.1" friction="0.0"/>
		<limit effort="30" velocity="1.0" lower="-10.0" upper="10.0" />
		<axis xyz="0 0 1" />
	</joint>
	<joint name="jC1Head_rotx" type="revolute">
		<origin xyz="0.000961           0    0.087412" rpy="0 0 0"/>
		<parent link="Neck"/>
		<child link="Head_f1"/>
		<dynamics damping="0.1" friction="0.0"/>
		<limit effort="30" velocity="1.0" lower="-10.0" upper="10.0" />
		<axis xyz="1 0 0" />
	</joint>
	<joint name="jC1Head_roty" type="revolute">
		<origin xyz="0 0 0" rpy="0 0 0"/>
		<parent link="Head_f1"/>
		<child link="Head_f2"/>
		<dynamics damping="0.1" friction="0.0"/>
		<limit effort="30" velocity="1.0" lower="-10.0" upper="10.0" />
		<axis xyz="0 1 0" />
	</joint>
	<joint name="jC1Head_rotz" type="revolute">
		<origin xyz="0 0 0" rpy="0 0 0"/>
		<parent link="Head_f2"/>
		<child link="Head"/>
		<dynamics damping="0.1" friction="0.0"/>
		<limit effort="30" velocity="1.0" lower="-10.0" upper="10.0" />
		<axis xyz="0 0 1" />
	</joint>
	<!--Chain from (8) to (11)-->
	<joint name="jRightC7Shoulder_rotx" type="revolute">
		<origin xyz="0   -0.025962    0.058814" rpy="0 0 0"/>
		<parent link="T8"/>
		<child link="RightShoulder_f1"/>
		<dynamics damping="0.1" friction="0.0"/>
		<limit effort="30" velocity="1.0" lower="-10.0" upper="10.0" />
		<axis xyz="1 0 0" />
	</joint>
	<joint name="jRightC7Shoulder_roty" type="revolute">
		<origin xyz="0 0 0" rpy="0 0 0"/>
		<parent link="RightShoulder_f1"/>
		<child link="RightShoulder_f2"/>
		<dynamics damping="0.1" friction="0.0"/>
		<limit effort="30" velocity="1.0" lower="-10.0" upper="10.0" />
		<axis xyz="0 1 0" />
	</joint>
	<joint name="jRightC7Shoulder_rotz" type="revolute">
		<origin xyz="0 0 0" rpy="0 0 0"/>
		<parent link="RightShoulder_f2"/>
		<child link="RightShoulder"/>
		<dynamics damping="0.1" friction="0.0"/>
		<limit effort="30" velocity="1.0" lower="-10.0" upper="10.0" />
		<axis xyz="0 0 1" />
	</joint>
	<joint name="jRightShoulder_rotx" type="revolute">
		<origin xyz="0    -0.14091           0" rpy="0 0 0"/>
		<parent link="RightShoulder"/>
		<child link="RightUpperArm_f1"/>
		<dynamics damping="0.1" friction="0.0"/>
		<limit effort="30" velocity="1.0" lower="-10.0" upper="10.0" />
		<axis xyz="1 0 0" />
	</joint>
	<joint name="jRightShoulder_roty" type="revolute">
		<origin xyz="0 0 0" rpy="0 0 0"/>
		<parent link="RightUpperArm_f1"/>
		<child link="RightUpperArm_f2"/>
		<dynamics damping="0.1" friction="0.0"/>
		<limit effort="30" velocity="1.0" lower="-10.0" upper="10.0" />
		<axis xyz="0 1 0" />
	</joint>
	<joint name="jRightShoulder_rotz" type="revolute">
		<origin xyz="0 0 0" rpy="0 0 0"/>
		<parent link="RightUpperArm_f2"/>
		<child link="RightUpperArm"/>
		<dynamics damping="0.1" friction="0.0"/>
		<limit effort="30" velocity="1.0" lower="-10.0" upper="10.0" />
		<axis xyz="0 0 1" />
	</joint>
	<joint name="jRightElbow_rotx" type="revolute">
		<origin xyz="0    -0.27611           0" rpy="0 0 0"/>
		<parent link="RightUpperArm"/>
		<child link="RightForeArm_f1"/>
		<dynamics damping="0.1" friction="0.0"/>
		<limit effort="30" velocity="1.0" lower="-10.0" upper="10.0" />
		<axis xyz="1 0 0" />
	</joint>
	<joint name="jRightElbow_roty" type="revolute">
		<origin xyz="0 0 0" rpy="0 0 0"/>
		<parent link="RightForeArm_f1"/>
		<child link="RightForeArm_f2"/>
		<dynamics damping="0.1" friction="0.0"/>
		<limit effort="30" velocity="1.0" lower="-10.0" upper="10.0" />
		<axis xyz="0 1 0" />
	</joint>
	<joint name="jRightElbow_rotz" type="revolute">
		<origin xyz="0 0 0" rpy="0 0 0"/>
		<parent link="RightForeArm_f2"/>
		<child link="RightForeArm"/>
		<dynamics damping="0.1" friction="0.0"/>
		<limit effort="30" velocity="1.0" lower="-10.0" upper="10.0" />
		<axis xyz="0 0 1" />
	</joint>
	<joint name="jRightWrist_rotx" type="revolute">
		<origin xyz="7.2e-05    -0.22743           0" rpy="0 0 0"/>
		<parent link="RightForeArm"/>
		<child link="RightHand_f1"/>
		<dynamics damping="0.1" friction="0.0"/>
		<limit effort="30" velocity="1.0" lower="-10.0" upper="10.0" />
		<axis xyz="1 0 0" />
	</joint>
	<joint name="jRightWrist_roty" type="revolute">
		<origin xyz="0 0 0" rpy="0 0 0"/>
		<parent link="RightHand_f1"/>
		<child link="RightHand_f2"/>
		<dynamics damping="0.1" friction="0.0"/>
		<limit effort="30" velocity="1.0" lower="-10.0" upper="10.0" />
		<axis xyz="0 1 0" />
	</joint>
	<joint name="jRightWrist_rotz" type="revolute">
		<origin xyz="0 0 0" rpy="0 0 0"/>
		<parent link="RightHand_f2"/>
		<child link="RightHand"/>
		<dynamics damping="0.1" friction="0.0"/>
		<limit effort="30" velocity="1.0" lower="-10.0" upper="10.0" />
		<axis xyz="0 0 1" />
	</joint>
	<!--Chain from (12) to (15)-->
	<joint name="jLeftC7Shoulder_rotx" type="revolute">
		<origin xyz="0    0.025962    0.058814" rpy="0 0 0"/>
		<parent link="T8"/>
		<child link="LeftShoulder_f1"/>
		<dynamics damping="0.1" friction="0.0"/>
		<limit effort="30" velocity="1.0" lower="-10.0" upper="10.0" />
		<axis xyz="1 0 0" />
	</joint>
	<joint name="jLeftC7Shoulder_roty" type="revolute">
		<origin xyz="0 0 0" rpy="0 0 0"/>
		<parent link="LeftShoulder_f1"/>
		<child link="LeftShoulder_f2"/>
		<dynamics damping="0.1" friction="0.0"/>
		<limit effort="30" velocity="1.0" lower="-10.0" upper="10.0" />
		<axis xyz="0 1 0" />
	</joint>
	<joint name="jLeftC7Shoulder_rotz" type="revolute">
		<origin xyz="0 0 0" rpy="0 0 0"/>
		<parent link="LeftShoulder_f2"/>
		<child link="LeftShoulder"/>
		<dynamics damping="0.1" friction="0.0"/>
		<limit effort="30" velocity="1.0" lower="-10.0" upper="10.0" />
		<axis xyz="0 0 1" />
	</joint>
	<joint name="jLeftShoulder_rotx" type="revolute">
		<origin xyz="0     0.14091           0" rpy="0 0 0"/>
		<parent link="LeftShoulder"/>
		<child link="LeftUpperArm_f1"/>
		<dynamics damping="0.1" friction="0.0"/>
		<limit effort="30" velocity="1.0" lower="-10.0" upper="10.0" />
		<axis xyz="1 0 0" />
	</joint>
	<joint name="jLeftShoulder_roty" type="revolute">
		<origin xyz="0 0 0" rpy="0 0 0"/>
		<parent link="LeftUpperArm_f1"/>
		<child link="LeftUpperArm_f2"/>
		<dynamics damping="0.1" friction="0.0"/>
		<limit effort="30" velocity="1.0" lower="-10.0" upper="10.0" />
		<axis xyz="0 1 0" />
	</joint>
	<joint name="jLeftShoulder_rotz" type="revolute">
		<origin xyz="0 0 0" rpy="0 0 0"/>
		<parent link="LeftUpperArm_f2"/>
		<child link="LeftUpperArm"/>
		<dynamics damping="0.1" friction="0.0"/>
		<limit effort="30" velocity="1.0" lower="-10.0" upper="10.0" />
		<axis xyz="0 0 1" />
	</joint>
	<joint name="jLeftElbow_rotx" type="revolute">
		<origin xyz="0     0.27611           0" rpy="0 0 0"/>
		<parent link="LeftUpperArm"/>
		<child link="LeftForeArm_f1"/>
		<dynamics damping="0.1" friction="0.0"/>
		<limit effort="30" velocity="1.0" lower="-10.0" upper="10.0" />
		<axis xyz="1 0 0" />
	</joint>
	<joint name="jLeftElbow_roty" type="revolute">
		<origin xyz="0 0 0" rpy="0 0 0"/>
		<parent link="LeftForeArm_f1"/>
		<child link="LeftForeArm_f2"/>
		<dynamics damping="0.1" friction="0.0"/>
		<limit effort="30" velocity="1.0" lower="-10.0" upper="10.0" />
		<axis xyz="0 1 0" />
	</joint>
	<joint name="jLeftElbow_rotz" type="revolute">
		<origin xyz="0 0 0" rpy="0 0 0"/>
		<parent link="LeftForeArm_f2"/>
		<child link="LeftForeArm"/>
		<dynamics damping="0.1" friction="0.0"/>
		<limit effort="30" velocity="1.0" lower="-10.0" upper="10.0" />
		<axis xyz="0 0 1" />
	</joint>
	<joint name="jLeftWrist_rotx" type="revolute">
		<origin xyz="7.2e-05     0.22743           0" rpy="0 0 0"/>
		<parent link="LeftForeArm"/>
		<child link="LeftHand_f1"/>
		<dynamics damping="0.1" friction="0.0"/>
		<limit effort="30" velocity="1.0" lower="-10.0" upper="10.0" />
		<axis xyz="1 0 0" />
	</joint>
	<joint name="jLeftWrist_roty" type="revolute">
		<origin xyz="0 0 0" rpy="0 0 0"/>
		<parent link="LeftHand_f1"/>
		<child link="LeftHand_f2"/>
		<dynamics damping="0.1" friction="0.0"/>
		<limit effort="30" velocity="1.0" lower="-10.0" upper="10.0" />
		<axis xyz="0 1 0" />
	</joint>
	<joint name="jLeftWrist_rotz" type="revolute">
		<origin xyz="0 0 0" rpy="0 0 0"/>
		<parent link="LeftHand_f2"/>
		<child link="LeftHand"/>
		<dynamics damping="0.1" friction="0.0"/>
		<limit effort="30" velocity="1.0" lower="-10.0" upper="10.0" />
		<axis xyz="0 0 1" />
	</joint>
	<!--Chain from (16) to (19)-->
	<joint name="jRightHip_rotx" type="revolute">
		<origin xyz="0.000283   -0.080902    0.002772" rpy="0 0 0"/>
		<parent link="Pelvis"/>
		<child link="RightUpperLeg_f1"/>
		<dynamics damping="0.1" friction="0.0"/>
		<limit effort="30" velocity="1.0" lower="-10.0" upper="10.0" />
		<axis xyz="1 0 0" />
	</joint>
	<joint name="jRightHip_roty" type="revolute">
		<origin xyz="0 0 0" rpy="0 0 0"/>
		<parent link="RightUpperLeg_f1"/>
		<child link="RightUpperLeg_f2"/>
		<dynamics damping="0.1" friction="0.0"/>
		<limit effort="30" velocity="1.0" lower="-10.0" upper="10.0" />
		<axis xyz="0 1 0" />
	</joint>
	<joint name="jRightHip_rotz" type="revolute">
		<origin xyz="0 0 0" rpy="0 0 0"/>
		<parent link="RightUpperLeg_f2"/>
		<child link="RightUpperLeg"/>
		<dynamics damping="0.1" friction="0.0"/>
		<limit effort="30" velocity="1.0" lower="-10.0" upper="10.0" />
		<axis xyz="0 0 1" />
	</joint>
	<joint name="jRightKnee_rotx" type="revolute">
		<origin xyz="-3e-06           0     -0.4767" rpy="0 0 0"/>
		<parent link="RightUpperLeg"/>
		<child link="RightLowerLeg_f1"/>
		<dynamics damping="0.1" friction="0.0"/>
		<limit effort="30" velocity="1.0" lower="-10.0" upper="10.0" />
		<axis xyz="1 0 0" />
	</joint>
	<joint name="jRightKnee_roty" type="revolute">
		<origin xyz="0 0 0" rpy="0 0 0"/>
		<parent link="RightLowerLeg_f1"/>
		<child link="RightLowerLeg_f2"/>
		<dynamics damping="0.1" friction="0.0"/>
		<limit effort="30" velocity="1.0" lower="-10.0" upper="10.0" />
		<axis xyz="0 1 0" />
	</joint>
	<joint name="jRightKnee_rotz" type="revolute">
		<origin xyz="0 0 0" rpy="0 0 0"/>
		<parent link="RightLowerLeg_f2"/>
		<child link="RightLowerLeg"/>
		<dynamics damping="0.1" friction="0.0"/>
		<limit effort="30" velocity="1.0" lower="-10.0" upper="10.0" />
		<axis xyz="0 0 1" />
	</joint>
	<joint name="jRightAnkle_rotx" type="revolute">
		<origin xyz="0.000249           0    -0.44087" rpy="0 0 0"/>
		<parent link="RightLowerLeg"/>
		<child link="RightFoot_f1"/>
		<dynamics damping="0.1" friction="0.0"/>
		<limit effort="30" velocity="1.0" lower="-10.0" upper="10.0" />
		<axis xyz="1 0 0" />
	</joint>
	<joint name="jRightAnkle_roty" type="revolute">
		<origin xyz="0 0 0" rpy="0 0 0"/>
		<parent link="RightFoot_f1"/>
		<child link="RightFoot_f2"/>
		<dynamics damping="0.1" friction="0.0"/>
		<limit effort="30" velocity="1.0" lower="-10.0" upper="10.0" />
		<axis xyz="0 1 0" />
	</joint>
	<joint name="jRightAnkle_rotz" type="revolute">
		<origin xyz="0 0 0" rpy="0 0 0"/>
		<parent link="RightFoot_f2"/>
		<child link="RightFoot"/>
		<dynamics damping="0.1" friction="0.0"/>
		<limit effort="30" velocity="1.0" lower="-10.0" upper="10.0" />
		<axis xyz="0 0 1" />
	</joint>
	<joint name="jRightBallFoot_rotx" type="revolute">
		<origin xyz="0.1435           0   -0.063865" rpy="0 0 0"/>
		<parent link="RightFoot"/>
		<child link="RightToe_f1"/>
		<dynamics damping="0.1" friction="0.0"/>
		<limit effort="30" velocity="1.0" lower="-10.0" upper="10.0" />
		<axis xyz="1 0 0" />
	</joint>
	<joint name="jRightBallFoot_roty" type="revolute">
		<origin xyz="0 0 0" rpy="0 0 0"/>
		<parent link="RightToe_f1"/>
		<child link="RightToe_f2"/>
		<dynamics damping="0.1" friction="0.0"/>
		<limit effort="30" velocity="1.0" lower="-10.0" upper="10.0" />
		<axis xyz="0 1 0" />
	</joint>
	<joint name="jRightBallFoot_rotz" type="revolute">
		<origin xyz="0 0 0" rpy="0 0 0"/>
		<parent link="RightToe_f2"/>
		<child link="RightToe"/>
		<dynamics damping="0.1" friction="0.0"/>
		<limit effort="30" velocity="1.0" lower="-10.0" upper="10.0" />
		<axis xyz="0 0 1" />
	</joint>
	<!--Chain from (20) to (23)-->
	<joint name="jLeftHip_rotx" type="revolute">
		<origin xyz="0.000283    0.080902    0.002772" rpy="0 0 0"/>
		<parent link="Pelvis"/>
		<child link="LeftUpperLeg_f1"/>
		<dynamics damping="0.1" friction="0.0"/>
		<limit effort="30" velocity="1.0" lower="-10.0" upper="10.0" />
		<axis xyz="1 0 0" />
	</joint>
	<joint name="jLeftHip_roty" type="revolute">
		<origin xyz="0 0 0" rpy="0 0 0"/>
		<parent link="LeftUpperLeg_f1"/>
		<child link="LeftUpperLeg_f2"/>
		<dynamics damping="0.1" friction="0.0"/>
		<limit effort="30" velocity="1.0" lower="-10.0" upper="10.0" />
		<axis xyz="0 1 0" />
	</joint>
	<joint name="jLeftHip_rotz" type="revolute">
		<origin xyz="0 0 0" rpy="0 0 0"/>
		<parent link="LeftUpperLeg_f2"/>
		<child link="LeftUpperLeg"/>
		<dynamics damping="0.1" friction="0.0"/>
		<limit effort="30" velocity="1.0" lower="-10.0" upper="10.0" />
		<axis xyz="0 0 1" />
	</joint>
	<joint name="jLeftKnee_rotx" type="revolute">
		<origin xyz="-3e-06           0     -0.4767" rpy="0 0 0"/>
		<parent link="LeftUpperLeg"/>
		<child link="LeftLowerLeg_f1"/>
		<dynamics damping="0.1" friction="0.0"/>
		<limit effort="30" velocity="1.0" lower="-10.0" upper="10.0" />
		<axis xyz="1 0 0" />
	</joint>
	<joint name="jLeftKnee_roty" type="revolute">
		<origin xyz="0 0 0" rpy="0 0 0"/>
		<parent link="LeftLowerLeg_f1"/>
		<child link="LeftLowerLeg_f2"/>
		<dynamics damping="0.1" friction="0.0"/>
		<limit effort="30" velocity="1.0" lower="-10.0" upper="10.0" />
		<axis xyz="0 1 0" />
	</joint>
	<joint name="jLeftKnee_rotz" type="revolute">
		<origin xyz="0 0 0" rpy="0 0 0"/>
		<parent link="LeftLowerLeg_f2"/>
		<child link="LeftLowerLeg"/>
		<dynamics damping="0.1" friction="0.0"/>
		<limit effort="30" velocity="1.0" lower="-10.0" upper="10.0" />
		<axis xyz="0 0 1" />
	</joint>
	<joint name="jLeftAnkle_rotx" type="revolute">
		<origin xyz="0.000249           0    -0.44087" rpy="0 0 0"/>
		<parent link="LeftLowerLeg"/>
		<child link="LeftFoot_f1"/>
		<dynamics damping="0.1" friction="0.0"/>
		<limit effort="30" velocity="1.0" lower="-10.0" upper="10.0" />
		<axis xyz="1 0 0" />
	</joint>
	<joint name="jLeftAnkle_roty" type="revolute">
		<origin xyz="0 0 0" rpy="0 0 0"/>
		<parent link="LeftFoot_f1"/>
		<child link="LeftFoot_f2"/>
		<dynamics damping="0.1" friction="0.0"/>
		<limit effort="30" velocity="1.0" lower="-10.0" upper="10.0" />
		<axis xyz="0 1 0" />
	</joint>
	<joint name="jLeftAnkle_rotz" type="revolute">
		<origin xyz="0 0 0" rpy="0 0 0"/>
		<parent link="LeftFoot_f2"/>
		<child link="LeftFoot"/>
		<dynamics damping="0.1" friction="0.0"/>
		<limit effort="30" velocity="1.0" lower="-10.0" upper="10.0" />
		<axis xyz="0 0 1" />
	</joint>
	<joint name="jLeftBallFoot_rotx" type="revolute">
		<origin xyz="0.1435           0   -0.063865" rpy="0 0 0"/>
		<parent link="LeftFoot"/>
		<child link="LeftToe_f1"/>
		<dynamics damping="0.1" friction="0.0"/>
		<limit effort="30" velocity="1.0" lower="-10.0" upper="10.0" />
		<axis xyz="1 0 0" />
	</joint>
	<joint name="jLeftBallFoot_roty" type="revolute">
		<origin xyz="0 0 0" rpy="0 0 0"/>
		<parent link="LeftToe_f1"/>
		<child link="LeftToe_f2"/>
		<dynamics damping="0.1" friction="0.0"/>
		<limit effort="30" velocity="1.0" lower="-10.0" upper="10.0" />
		<axis xyz="0 1 0" />
	</joint>
	<joint name="jLeftBallFoot_rotz" type="revolute">
		<origin xyz="0 0 0" rpy="0 0 0"/>
		<parent link="LeftToe_f2"/>
		<child link="LeftToe"/>
		<dynamics damping="0.1" friction="0.0"/>
		<limit effort="30" velocity="1.0" lower="-10.0" upper="10.0" />
		<axis xyz="0 0 1" />
	</joint>

	<!-- Sensor  1-->
	<sensor name="Pelvis_gyro" type="gyroscope">
		<parent link="Pelvis"/>
		<origin xyz="-0.056379  5.9023e-05    0.096178" rpy="-0.12831      1.3716      2.9515"/>
	</sensor>
	<sensor name="Pelvis_accelerometer" type="accelerometer">
		<parent link="Pelvis"/>
		<origin xyz="-0.056379  5.9023e-05    0.096178" rpy="-0.12831      1.3716      2.9515"/>
	</sensor>
	<!-- Sensor  2-->
	<sensor name="T8_gyro" type="gyroscope">
		<parent link="T8"/>
		<origin xyz="0.11706 -5.8412e-06    0.064394" rpy="-0.15263      1.2353    -0.13995"/>
	</sensor>
	<sensor name="T8_accelerometer" type="accelerometer">
		<parent link="T8"/>
		<origin xyz="0.11706 -5.8412e-06    0.064394" rpy="-0.15263      1.2353    -0.13995"/>
	</sensor>
	<!-- Sensor  3-->
	<sensor name="Head_gyro" type="gyroscope">
		<parent link="Head"/>
		<origin xyz="-0.070424  6.6877e-06    0.077405" rpy="2.3191    0.028482     -1.3932"/>
	</sensor>
	<sensor name="Head_accelerometer" type="accelerometer">
		<parent link="Head"/>
		<origin xyz="-0.070424  6.6877e-06    0.077405" rpy="2.3191    0.028482     -1.3932"/>
	</sensor>
	<!-- Sensor  4-->
	<sensor name="RightShoulder_gyro" type="gyroscope">
		<parent link="RightShoulder"/>
		<origin xyz="-0.020111   -0.050339   -0.060376" rpy="1.2553    -0.28254      -1.454"/>
	</sensor>
	<sensor name="RightShoulder_accelerometer" type="accelerometer">
		<parent link="RightShoulder"/>
		<origin xyz="-0.020111   -0.050339   -0.060376" rpy="1.2553    -0.28254      -1.454"/>
	</sensor>
	<!-- Sensor  5-->
	<sensor name="RightUpperArm_gyro" type="gyroscope">
		<parent link="RightUpperArm"/>
		<origin xyz="-0.018552   -0.092663    0.018536" rpy="-0.062567   -0.014085     -1.7201"/>
	</sensor>
	<sensor name="RightUpperArm_accelerometer" type="accelerometer">
		<parent link="RightUpperArm"/>
		<origin xyz="-0.018552   -0.092663    0.018536" rpy="-0.062567   -0.014085     -1.7201"/>
	</sensor>
	<!-- Sensor  6-->
	<sensor name="RightForeArm_gyro" type="gyroscope">
		<parent link="RightForeArm"/>
		<origin xyz="0.0017155    -0.18717    0.018697" rpy="-0.93102   -0.031527      -1.324"/>
	</sensor>
	<sensor name="RightForeArm_accelerometer" type="accelerometer">
		<parent link="RightForeArm"/>
		<origin xyz="0.0017155    -0.18717    0.018697" rpy="-0.93102   -0.031527      -1.324"/>
	</sensor>
	<!-- Sensor  7-->
	<sensor name="RightHand_gyro" type="gyroscope">
		<parent link="RightHand"/>
		<origin xyz="-3.7264e-06   -0.051905    0.018869" rpy="-0.56817     -0.1242     -1.4968"/>
	</sensor>
	<sensor name="RightHand_accelerometer" type="accelerometer">
		<parent link="RightHand"/>
		<origin xyz="-3.7264e-06   -0.051905    0.018869" rpy="-0.56817     -0.1242     -1.4968"/>
	</sensor>
	<!-- Sensor  8-->
	<sensor name="LeftShoulder_gyro" type="gyroscope">
		<parent link="LeftShoulder"/>
		<origin xyz="-0.020145     0.05035   -0.060405" rpy="-1.2762    -0.25077       1.311"/>
	</sensor>
	<sensor name="LeftShoulder_accelerometer" type="accelerometer">
		<parent link="LeftShoulder"/>
		<origin xyz="-0.020145     0.05035   -0.060405" rpy="-1.2762    -0.25077       1.311"/>
	</sensor>
	<!-- Sensor  9-->
	<sensor name="LeftUpperArm_gyro" type="gyroscope">
		<parent link="LeftUpperArm"/>
		<origin xyz="-0.018507    0.092638    0.018515" rpy="-0.27227   -0.014082      1.6425"/>
	</sensor>
	<sensor name="LeftUpperArm_accelerometer" type="accelerometer">
		<parent link="LeftUpperArm"/>
		<origin xyz="-0.018507    0.092638    0.018515" rpy="-0.27227   -0.014082      1.6425"/>
	</sensor>
	<!-- Sensor  10-->
	<sensor name="LeftForeArm_gyro" type="gyroscope">
		<parent link="LeftForeArm"/>
		<origin xyz="0.0017437     0.18715    0.018676" rpy="0.95058    0.014378      1.1549"/>
	</sensor>
	<sensor name="LeftForeArm_accelerometer" type="accelerometer">
		<parent link="LeftForeArm"/>
		<origin xyz="0.0017437     0.18715    0.018676" rpy="0.95058    0.014378      1.1549"/>
	</sensor>
	<!-- Sensor  11-->
	<sensor name="LeftHand_gyro" type="gyroscope">
		<parent link="LeftHand"/>
		<origin xyz="1.3859e-05    0.051856    0.018889" rpy="0.5975    0.005576      1.4608"/>
	</sensor>
	<sensor name="LeftHand_accelerometer" type="accelerometer">
		<parent link="LeftHand"/>
		<origin xyz="1.3859e-05    0.051856    0.018889" rpy="0.5975    0.005576      1.4608"/>
	</sensor>
	<!-- Sensor  12-->
	<sensor name="RightUpperLeg_gyro" type="gyroscope">
		<parent link="RightUpperLeg"/>
		<origin xyz="0.0138   -0.048579    -0.28702" rpy="-2.7828      1.3982      1.8178"/>
	</sensor>
	<sensor name="RightUpperLeg_accelerometer" type="accelerometer">
		<parent link="RightUpperLeg"/>
		<origin xyz="0.0138   -0.048579    -0.28702" rpy="-2.7828      1.3982      1.8178"/>
	</sensor>
	<!-- Sensor  13-->
	<sensor name="RightLowerLeg_gyro" type="gyroscope">
		<parent link="RightLowerLeg"/>
		<origin xyz="0.033333   0.0076285    -0.14333" rpy="-2.6933       1.393     -2.7409"/>
	</sensor>
	<sensor name="RightLowerLeg_accelerometer" type="accelerometer">
		<parent link="RightLowerLeg"/>
		<origin xyz="0.033333   0.0076285    -0.14333" rpy="-2.6933       1.393     -2.7409"/>
	</sensor>
	<!-- Sensor  14-->
	<sensor name="RightFoot_gyro" type="gyroscope">
		<parent link="RightFoot"/>
		<origin xyz="0.083055   0.0014008   -0.011714" rpy="0.42804     0.49487    0.098317"/>
	</sensor>
	<sensor name="RightFoot_accelerometer" type="accelerometer">
		<parent link="RightFoot"/>
		<origin xyz="0.083055   0.0014008   -0.011714" rpy="0.42804     0.49487    0.098317"/>
	</sensor>
	<!-- Sensor  15-->
	<sensor name="LeftUpperLeg_gyro" type="gyroscope">
		<parent link="LeftUpperLeg"/>
		<origin xyz="0.01383    0.048582     -0.2869" rpy="-3.0472      1.4564     -1.7367"/>
	</sensor>
	<sensor name="LeftUpperLeg_accelerometer" type="accelerometer">
		<parent link="LeftUpperLeg"/>
		<origin xyz="0.01383    0.048582     -0.2869" rpy="-3.0472      1.4564     -1.7367"/>
	</sensor>
	<!-- Sensor  16-->
	<sensor name="LeftLowerLeg_gyro" type="gyroscope">
		<parent link="LeftLowerLeg"/>
		<origin xyz="0.033342   -0.007636    -0.14334" rpy="2.4206      1.3713      2.3965"/>
	</sensor>
	<sensor name="LeftLowerLeg_accelerometer" type="accelerometer">
		<parent link="LeftLowerLeg"/>
		<origin xyz="0.033342   -0.007636    -0.14334" rpy="2.4206      1.3713      2.3965"/>
	</sensor>
	<!-- Sensor  17-->
	<sensor name="LeftFoot_gyro" type="gyroscope">
		<parent link="LeftFoot"/>
		<origin xyz="0.083074  -0.0014024   -0.011731" rpy="-0.47431      0.5024   -0.026024"/>
	</sensor>
	<sensor name="LeftFoot_accelerometer" type="accelerometer">
		<parent link="LeftFoot"/>
		<origin xyz="0.083074  -0.0014024   -0.011731" rpy="-0.47431      0.5024   -0.026024"/>
	</sensor>


</robot>
